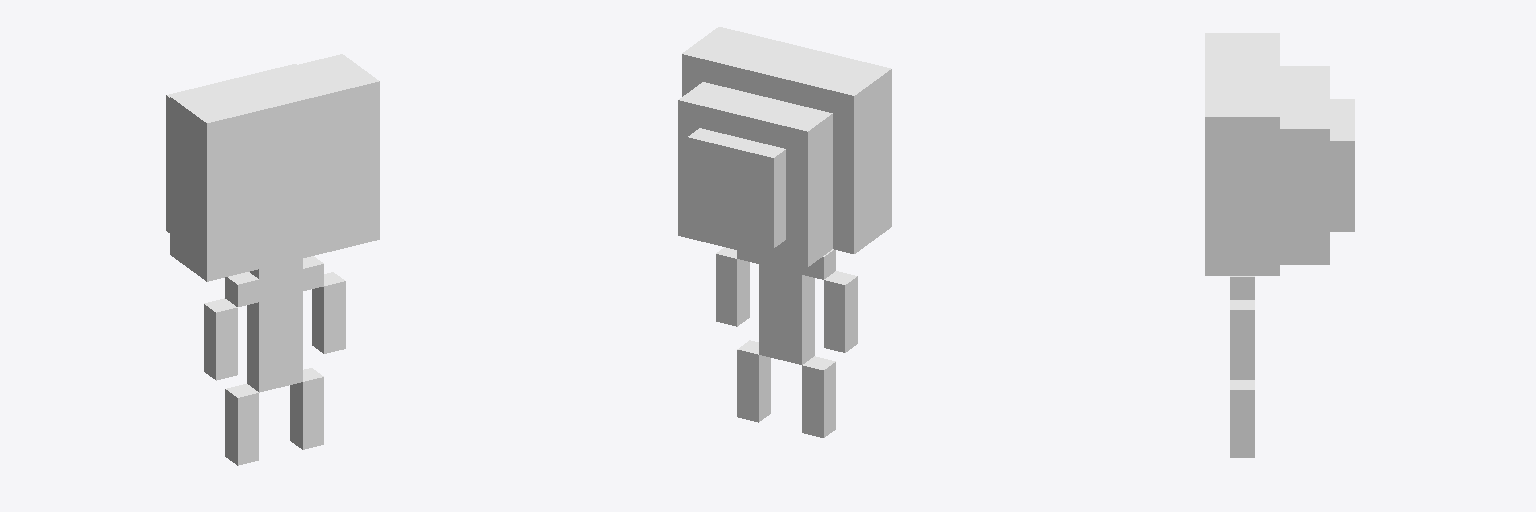
Rendered from comp.obj.
The picture shows the model from 3 angles: view 1: azimuth 30°, elevation 25°; view 2: azimuth 150°, elevation 25°; view 3: azimuth 270°, elevation 25°; orthographic projection.
Parts seen in each view (by area): view 1: object 1; view 2: object 1; view 3: object 1.
Boxes of the visible parts, box(x1,y1,x2,y2) form: object 1: box(166, 54, 379, 465); object 1: box(678, 27, 891, 437); object 1: box(1205, 33, 1354, 457).
Bounding box in the file's own units: 0.8 × 1.6 × 0.6.